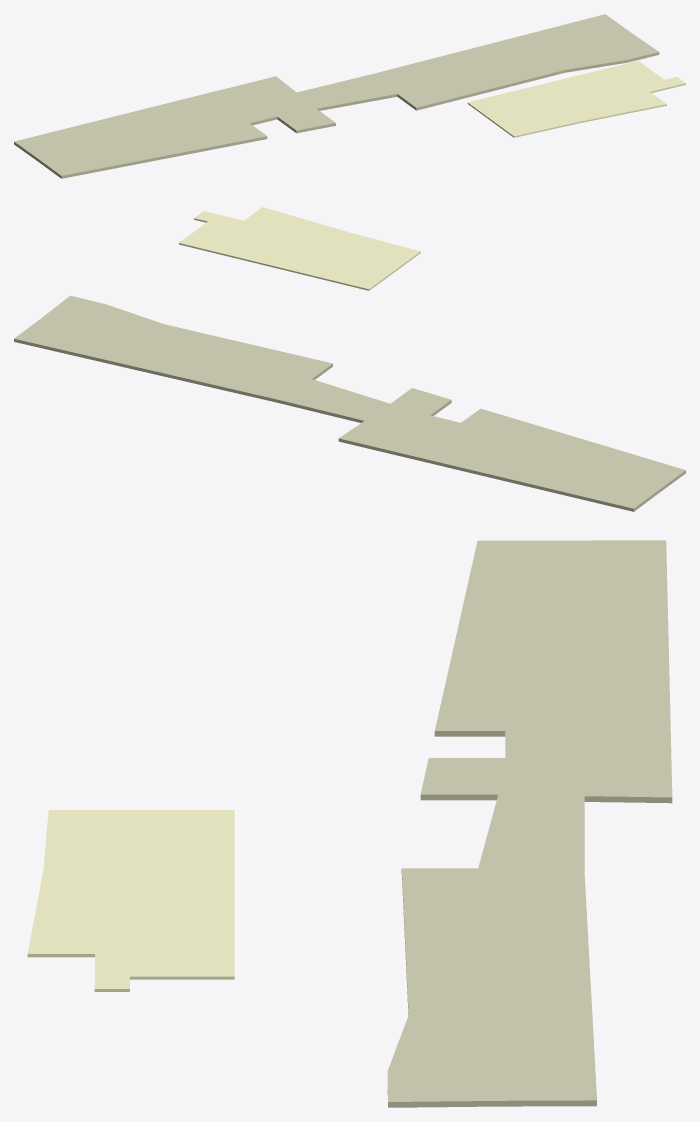
Rendered from Techos.fbx.
3 views of the same model, one above another, from view 1: azimuth 30°, elevation 25°; view 2: azimuth 150°, elevation 25°; view 3: azimuth 270°, elevation 25° (orthographic). The views are drawn at different scales.
Parts seen in each view (by area): view 1: pCube3, pCube2; view 2: pCube3, pCube2; view 3: pCube3, pCube2.
Part boxes in pixels (x1,y1,x2,y2): pCube3: (14, 14, 659, 178); pCube2: (467, 60, 685, 137); pCube3: (14, 295, 685, 511); pCube2: (179, 207, 420, 290); pCube3: (387, 540, 672, 1107); pCube2: (27, 810, 234, 991).
Size of the model in its own units: 55.07 by 3.35 by 26.71.
